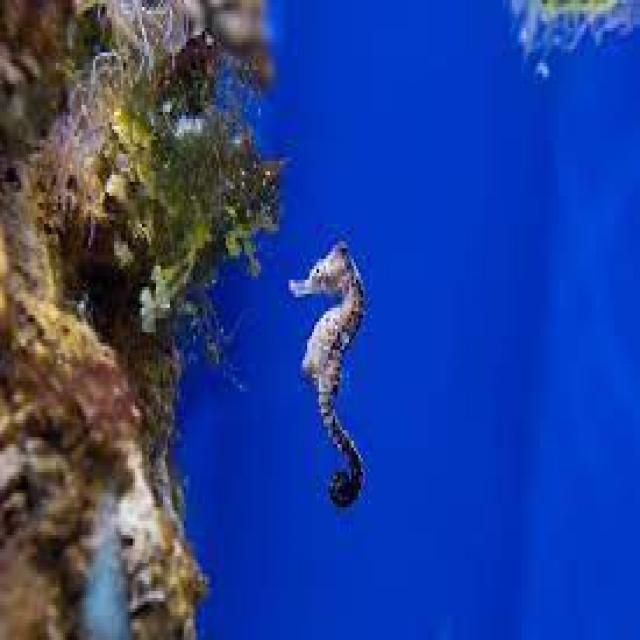SeaHorse: (291, 242, 368, 510)
